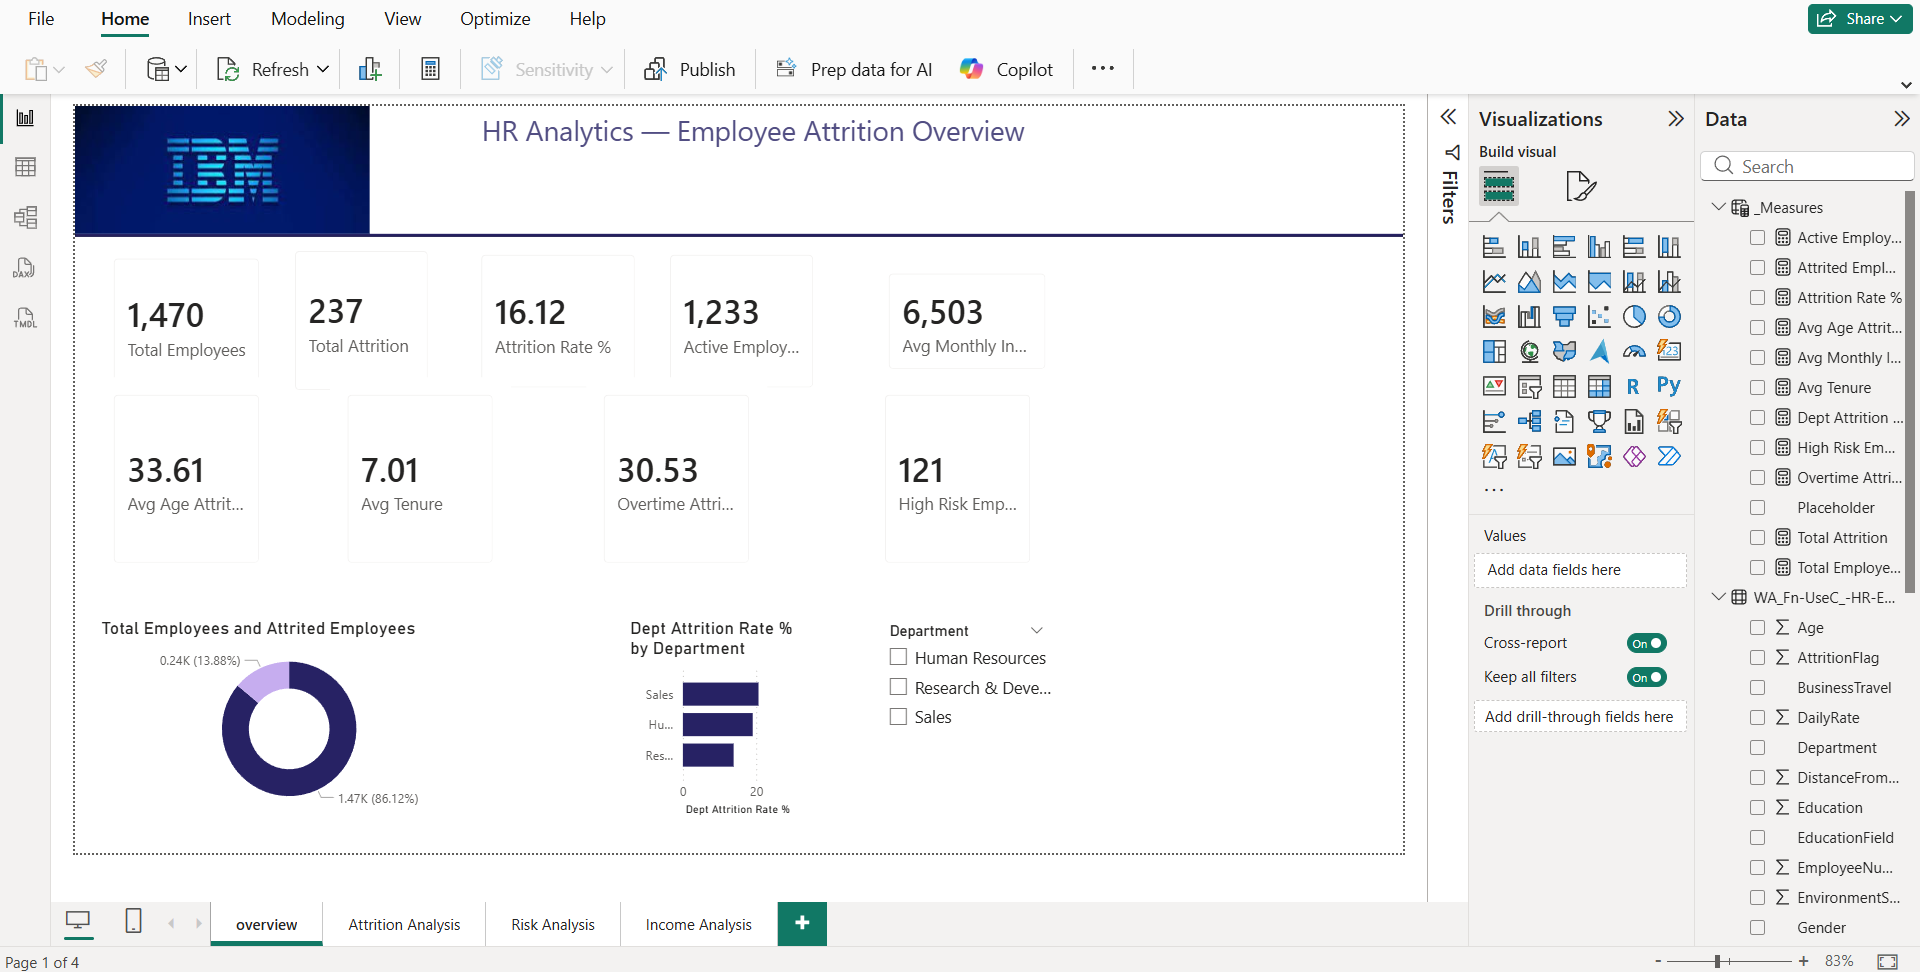

The dashboard page shown, as its layout file describes it:
{"tool":"powerbi","page":{"name":"overview","canvas":[1280,720],"ordinal":0},"visuals":[{"type":"cardVisual","fields":{"Data":["_Measures.Total Employees"]},"box":[21,130,174,161],"z":0},{"type":"cardVisual","fields":{"Data":["_Measures.Total Attrition"]},"box":[195,123,162,168],"z":1000},{"type":"cardVisual","fields":{"Data":["_Measures.Attrition Rate %"]},"box":[375,126,182,162],"z":2000},{"type":"cardVisual","fields":{"Data":["_Measures.Active Employees"]},"box":[557,126,172,162],"z":3000},{"type":"cardVisual","fields":{"Data":["_Measures.Avg Monthly Income"]},"box":[767,144,185,126],"z":4000},{"type":"cardVisual","fields":{"Data":["_Measures.Avg Tenure"]},"box":[246,262,174,196],"z":5000},{"type":"cardVisual","fields":{"Data":["_Measures.Avg Age Attrited"]},"box":[21,262,174,196],"z":6000},{"type":"cardVisual","fields":{"Data":["_Measures.High Risk Employees"]},"box":[764,262,174,196],"z":7000},{"type":"cardVisual","fields":{"Data":["_Measures.Overtime Attrition Rate %"]},"box":[493,262,174,196],"z":8000},{"type":"clusteredBarChart","fields":{"Category":["WA_Fn-UseC_-HR-Employee-Attrition.Department"],"Y":["_Measures.Dept Attrition Rate %"]},"box":[530,493,174,196],"z":9000},{"type":"slicer","fields":{"Values":["WA_Fn-UseC_-HR-Employee-Attrition.Department"]},"box":[772,493,174,196],"z":10000},{"type":"shape","box":[0,0,1280,126],"z":11000},{"type":"textbox","box":[0,0,1280,123],"z":12000},{"type":"image","box":[0,0,284,123],"z":13000},{"type":"donutChart","fields":{"Y":["_Measures.Total Employees","_Measures.Attrited Employees"]},"box":[20.5,492.8,372.3,196.4],"z":13001}]}

Visuals, with their boxes on the page's 1280x720 design canvas (x1, y1, x2, y2). These are canvas units, not pixel positions in the 1920x972 screenshot, which may show the page scaled, cropped or inside an application window:
cardVisual - _Measures.Total Employees: detection(21, 130, 195, 291)
cardVisual - _Measures.Total Attrition: detection(195, 123, 357, 291)
cardVisual - _Measures.Attrition Rate %: detection(375, 126, 557, 288)
cardVisual - _Measures.Active Employees: detection(557, 126, 729, 288)
cardVisual - _Measures.Avg Monthly Income: detection(767, 144, 952, 270)
cardVisual - _Measures.Avg Tenure: detection(246, 262, 420, 458)
cardVisual - _Measures.Avg Age Attrited: detection(21, 262, 195, 458)
cardVisual - _Measures.High Risk Employees: detection(764, 262, 938, 458)
cardVisual - _Measures.Overtime Attrition Rate %: detection(493, 262, 667, 458)
clusteredBarChart - WA_Fn-UseC_-HR-Employee-Attrition.Department x _Measures.Dept Attrition Rate %: detection(530, 493, 704, 689)
slicer - WA_Fn-UseC_-HR-Employee-Attrition.Department: detection(772, 493, 946, 689)
shape: detection(0, 0, 1280, 126)
textbox: detection(0, 0, 1280, 123)
image: detection(0, 0, 284, 123)
donutChart - _Measures.Total Employees x _Measures.Attrited Employees: detection(20, 493, 393, 689)
